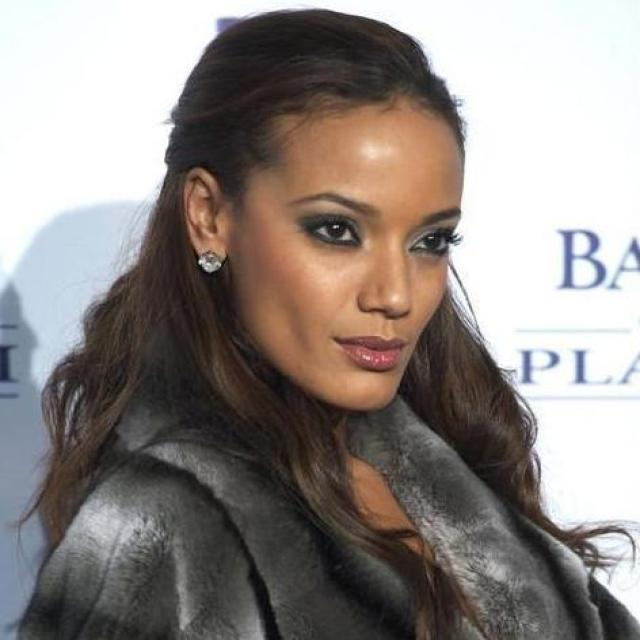0_rostro_limpio: (227, 76, 466, 419)
